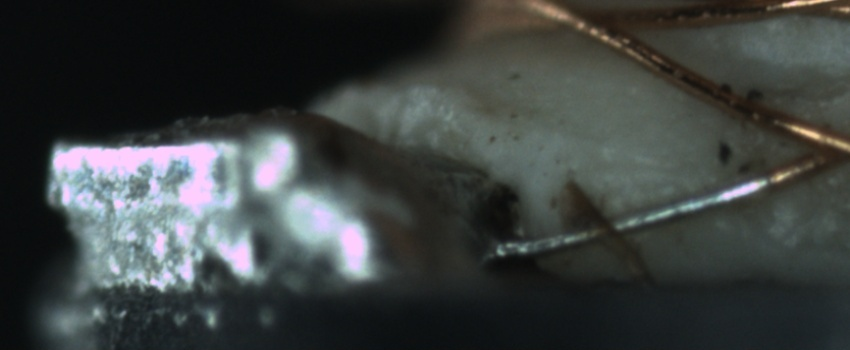CL: (754, 106, 847, 180)
DL: (564, 142, 717, 198)
TS: (495, 178, 770, 257)
